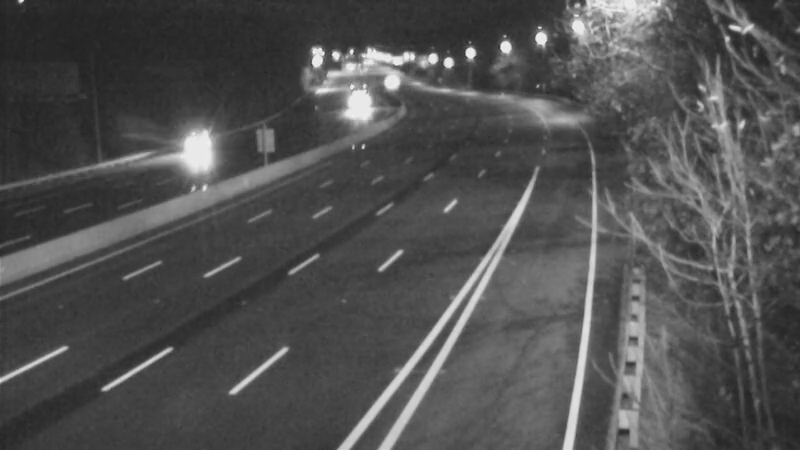vehicle: (152, 112, 232, 192), (361, 55, 411, 105), (330, 84, 380, 134)
